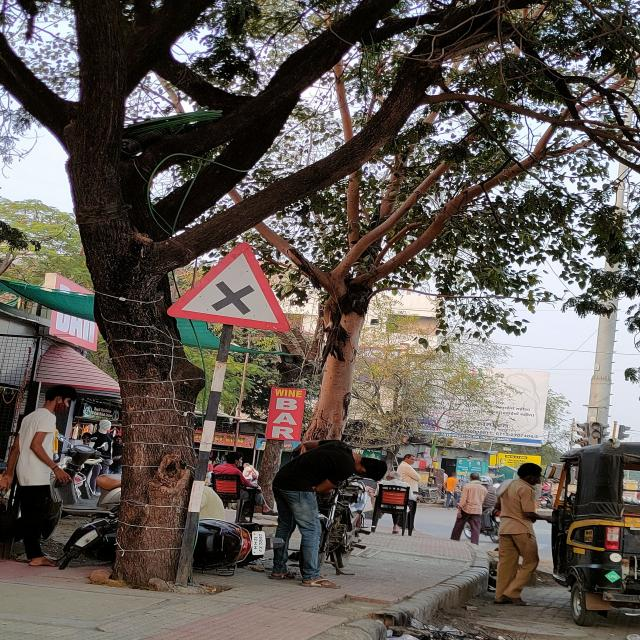CROSS_ROAD: (166, 242, 290, 334)
